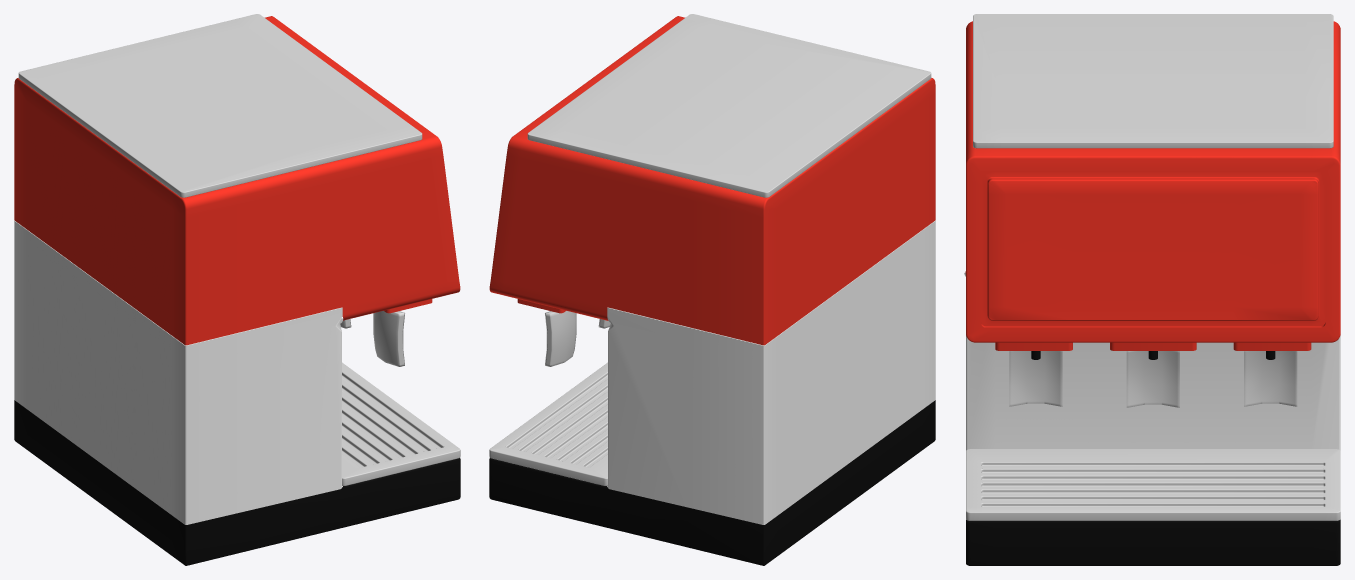
File: beverage.fbx
3 renders of one model, left to right at view 1: azimuth 30°, elevation 25°; view 2: azimuth 150°, elevation 25°; view 3: azimuth 270°, elevation 25°, orthographic. The views are drawn at different scales.
Parts seen in each view (by area): view 1: Cube.010, Cube.009, Cube.004, Cube.008, Cube.003, Cube.006; view 2: Cube.010, Cube.009, Cube.004, Cube.008, Cube.003, Cube.006; view 3: Cube.010, Cube.004, Cube.009, Cube.003, Cube.008, Cube.006, Cube.005.
Part boxes in pixels (x1,y1,x2,y2): Cube.010: (14, 16, 460, 345); Cube.009: (14, 220, 343, 524); Cube.004: (18, 14, 422, 197); Cube.008: (14, 400, 460, 565); Cube.003: (342, 362, 460, 485); Cube.006: (373, 311, 404, 366); Cube.010: (489, 16, 935, 345); Cube.009: (607, 220, 935, 524); Cube.004: (527, 14, 931, 197); Cube.008: (489, 400, 935, 565); Cube.003: (489, 362, 607, 485); Cube.006: (545, 311, 576, 366); Cube.010: (965, 21, 1340, 350); Cube.004: (973, 14, 1333, 148); Cube.009: (964, 272, 1340, 450); Cube.003: (966, 449, 1340, 520); Cube.008: (966, 520, 1340, 565); Cube.006: (1009, 351, 1297, 406); Cube.005: (1126, 351, 1179, 407).
Bounding box in the file's own units: 157 × 202 × 170.
